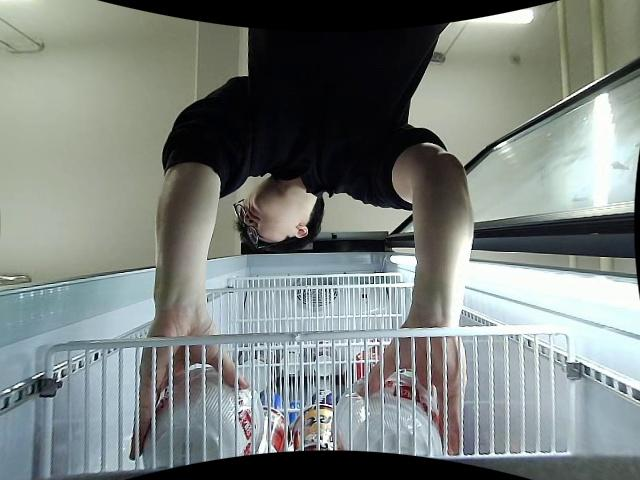00_hand: (129, 312, 251, 462), (359, 325, 467, 454)
09_yukGaeJang: (143, 363, 269, 472), (333, 374, 447, 461)
